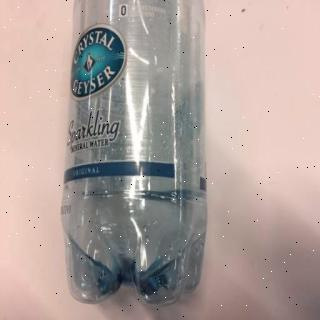Plastic-bottle: (60, 1, 212, 311)
